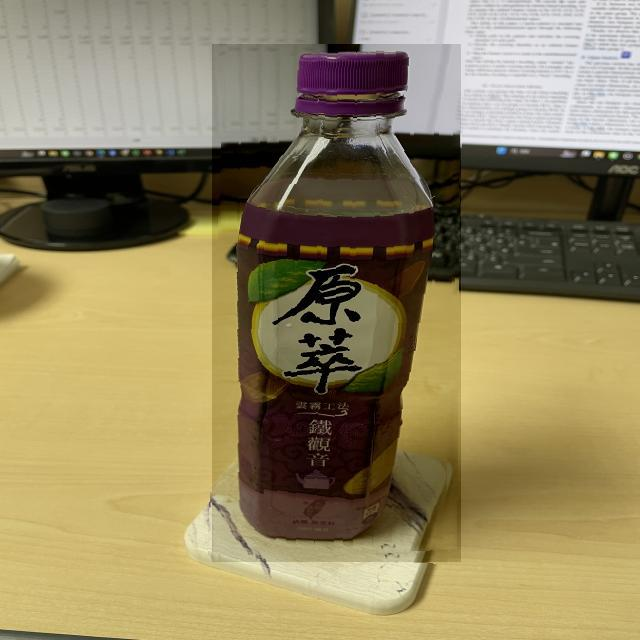YuanTsui_TieGuanYing: (212, 44, 461, 562)
